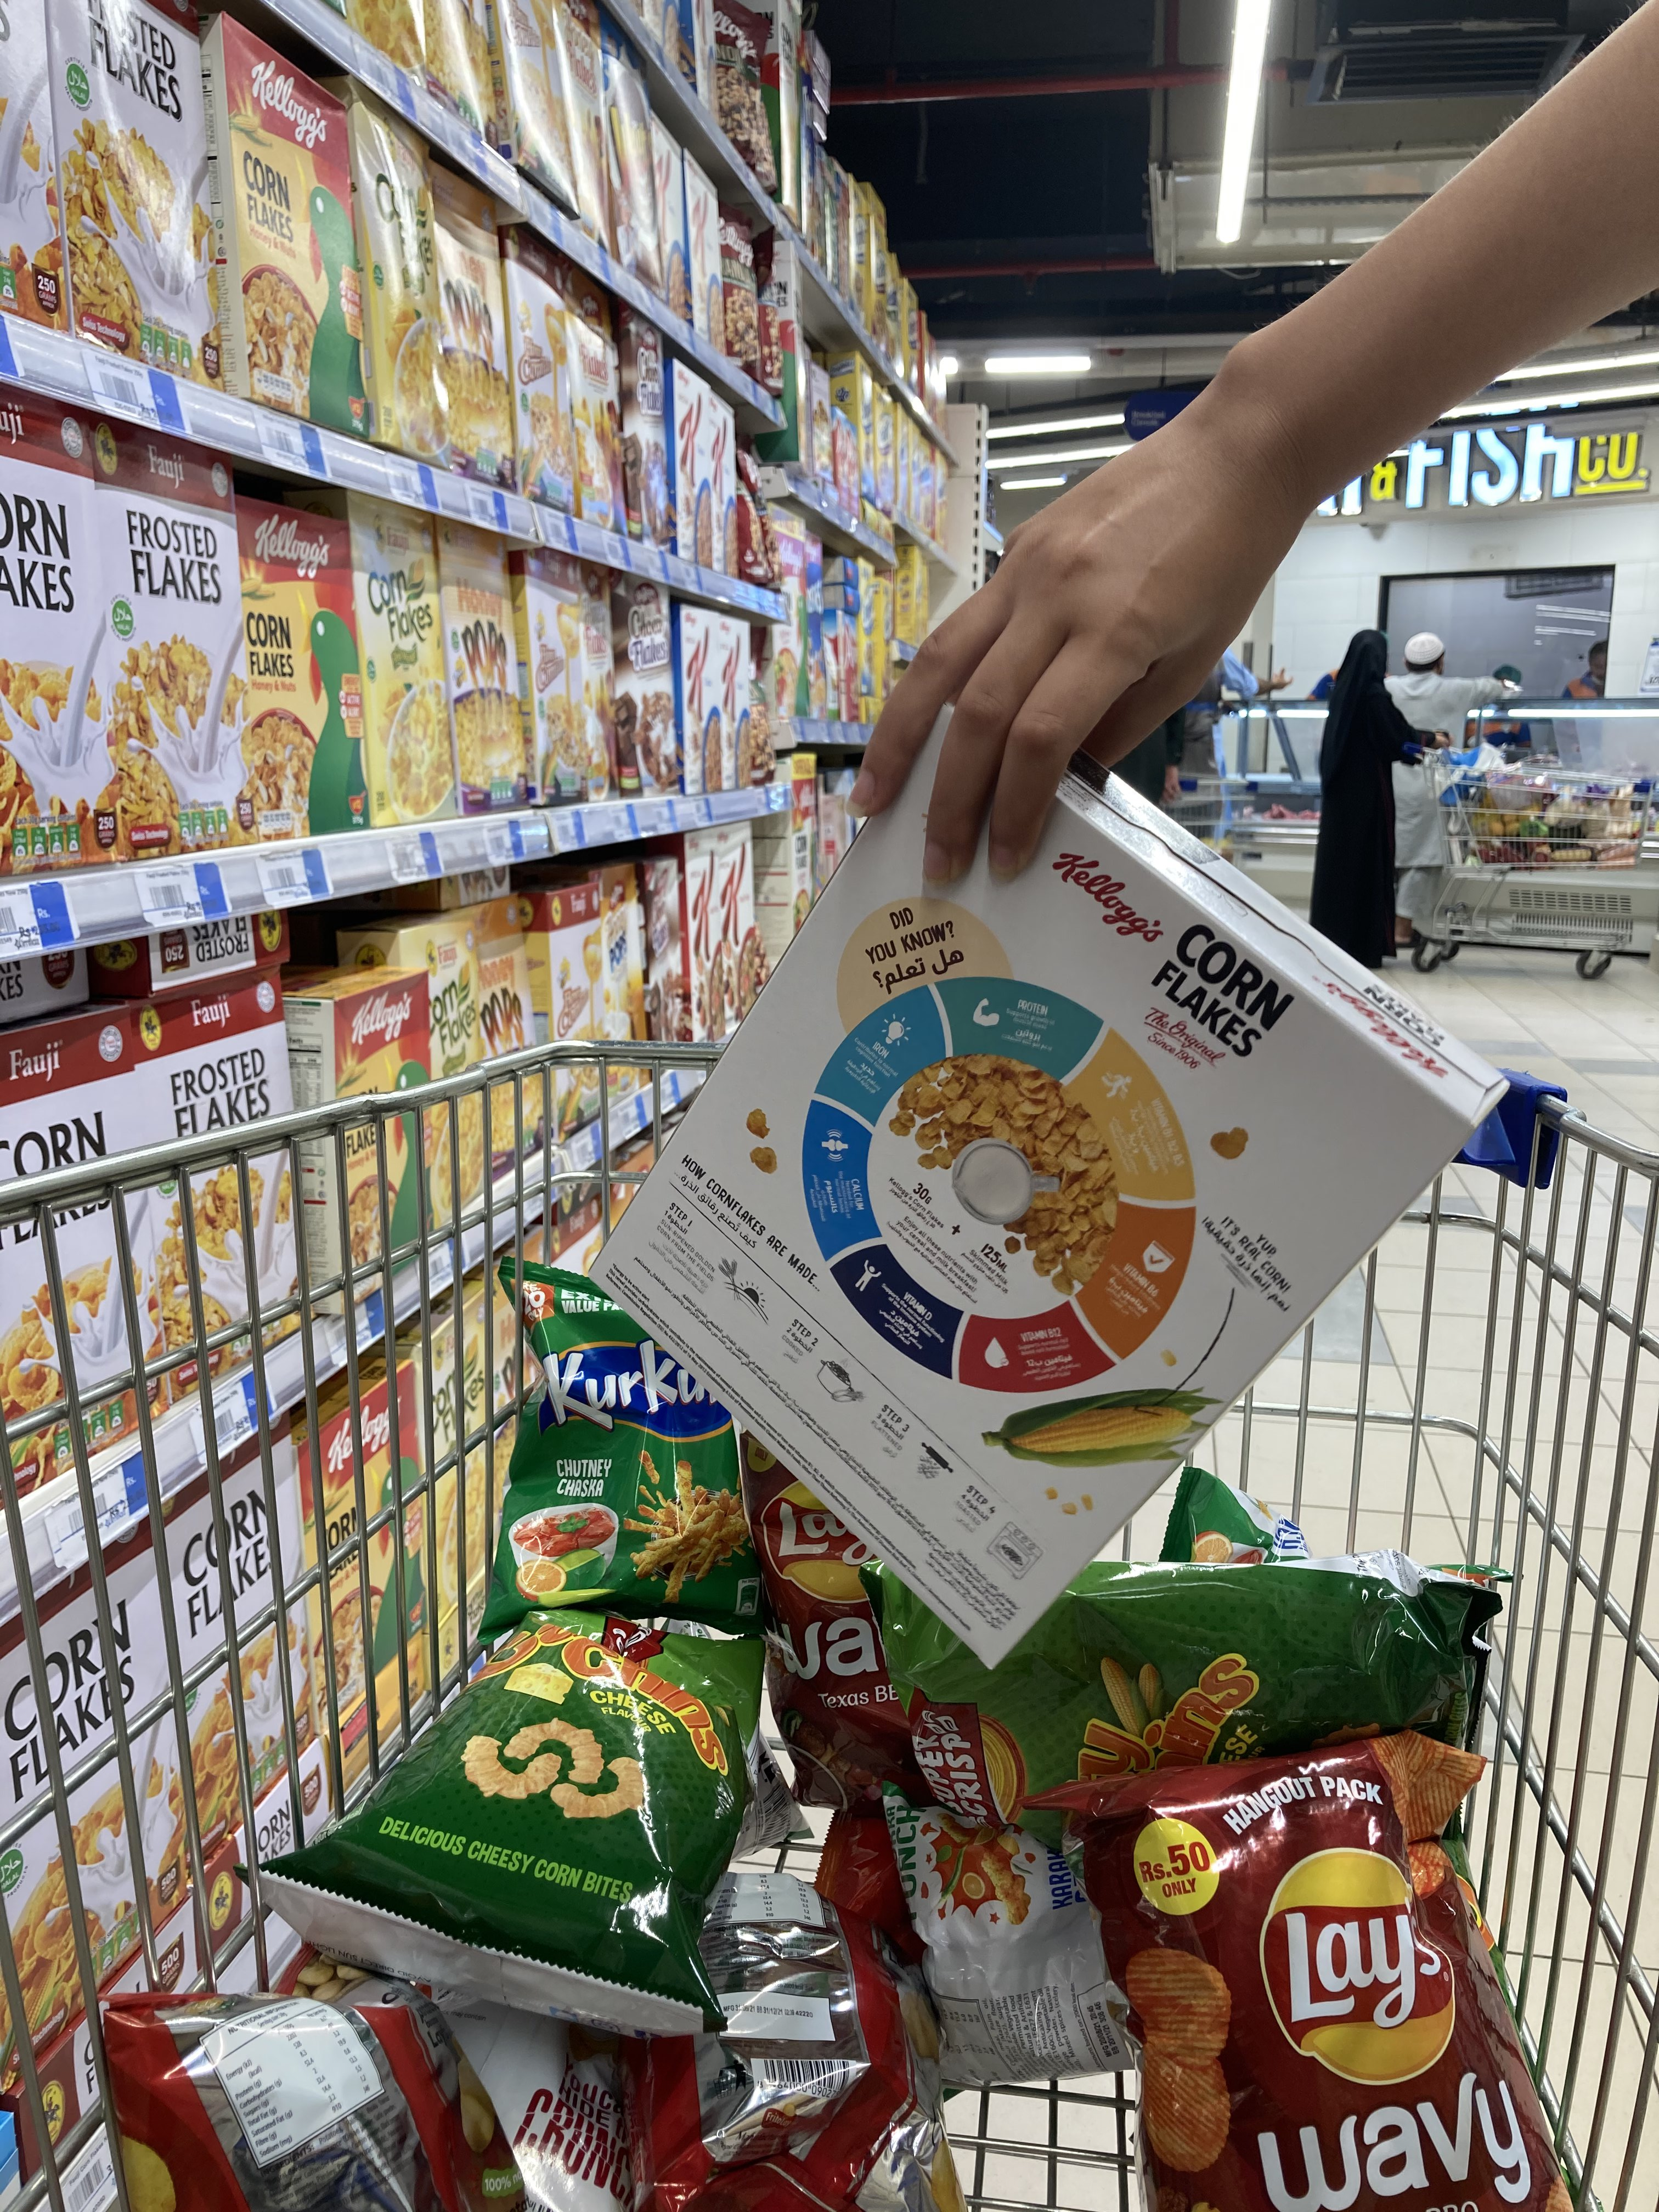Kellogg's Corn Flakes: (587, 756, 1520, 1669)
